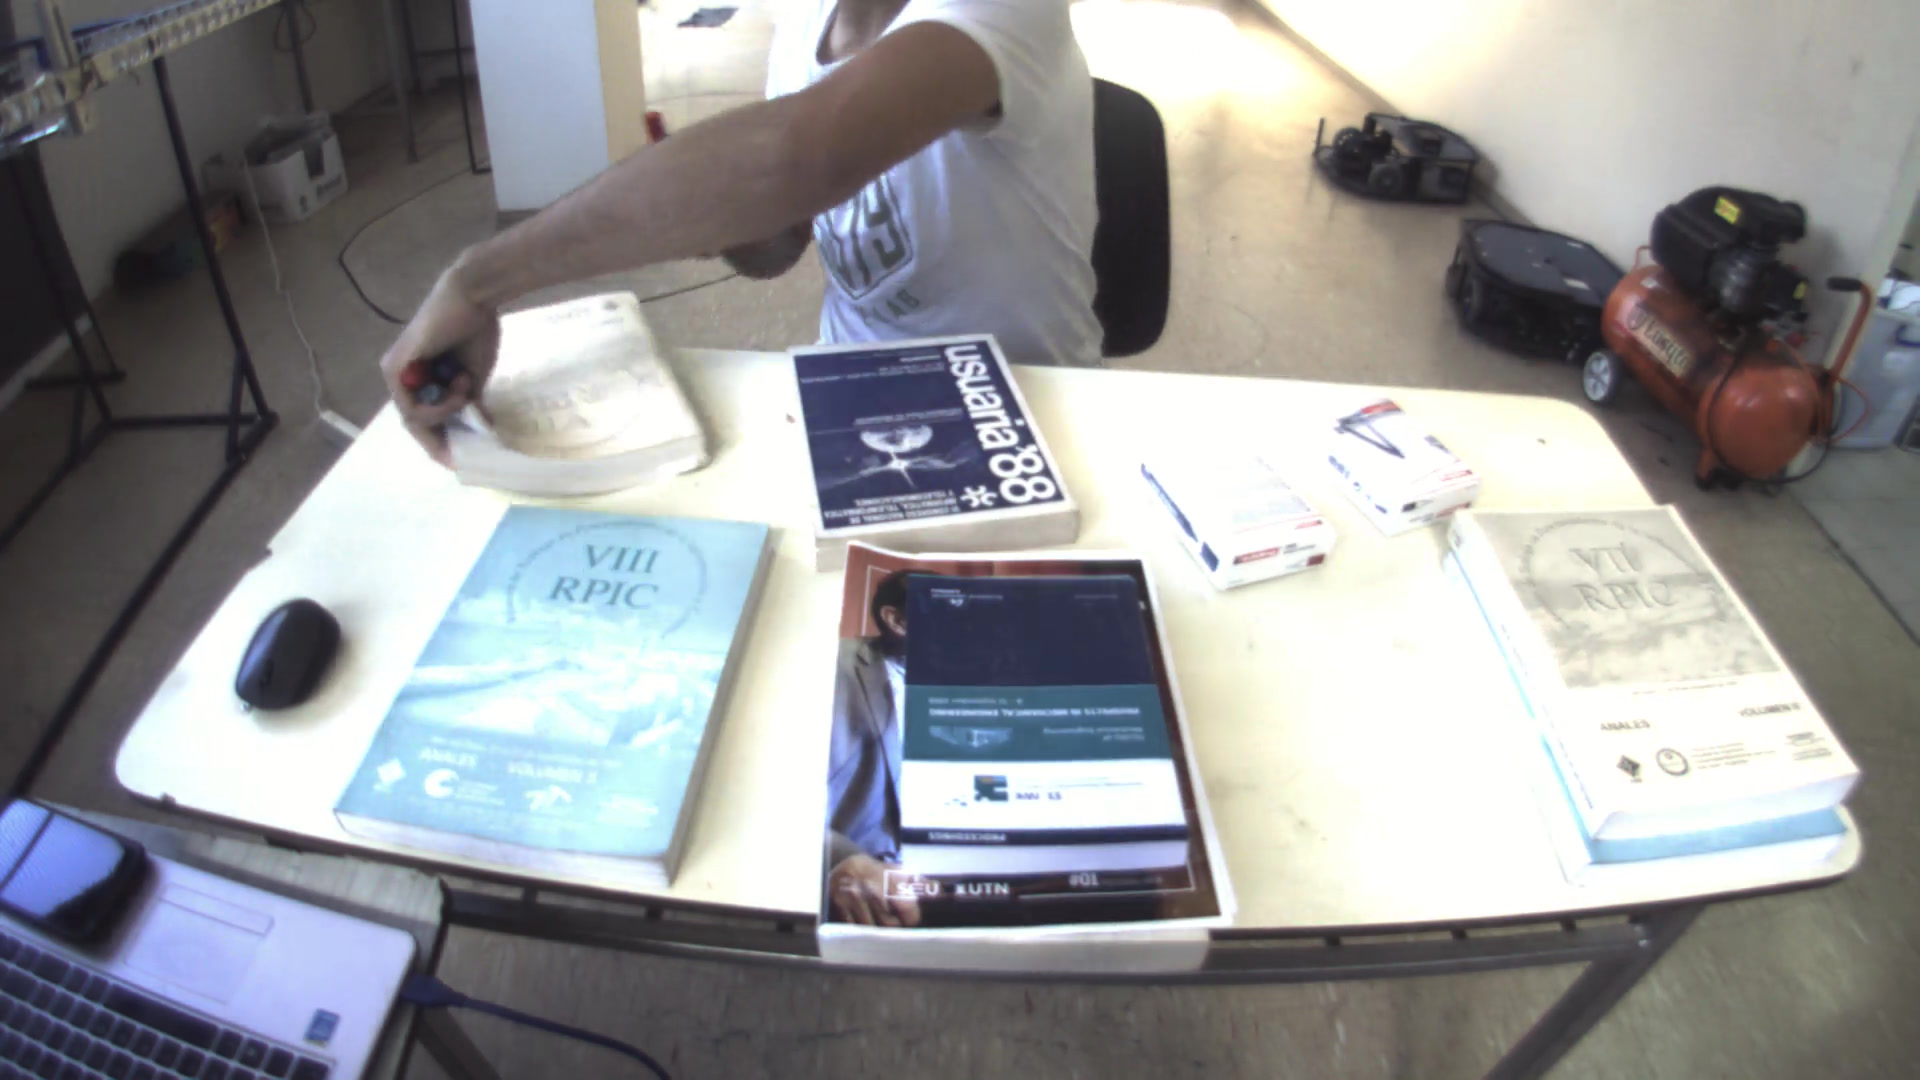hand: (368, 270, 500, 451)
